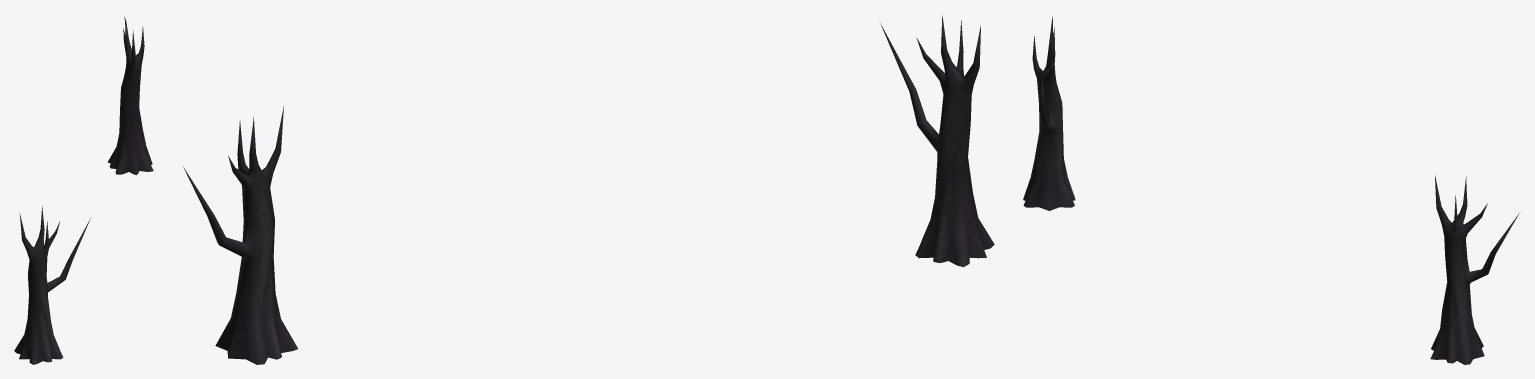
File: Area11_14.fbx
The picture shows the model from 3 angles, left to right: view 1: azimuth 30°, elevation 25°; view 2: azimuth 150°, elevation 25°; view 3: azimuth 270°, elevation 25°; orthographic projection. The views are drawn at different scales.
Parts seen in each view (by area): view 1: Area11_14; view 2: Area11_14; view 3: Area11_14.
Boxes of the visible parts, x1,y1,x2,y2 form: Area11_14: (14, 16, 153, 364); Area11_14: (183, 15, 994, 364); Area11_14: (1023, 16, 1519, 364).
Bounding box in the file's own units: 3415 × 1574 × 4040.
